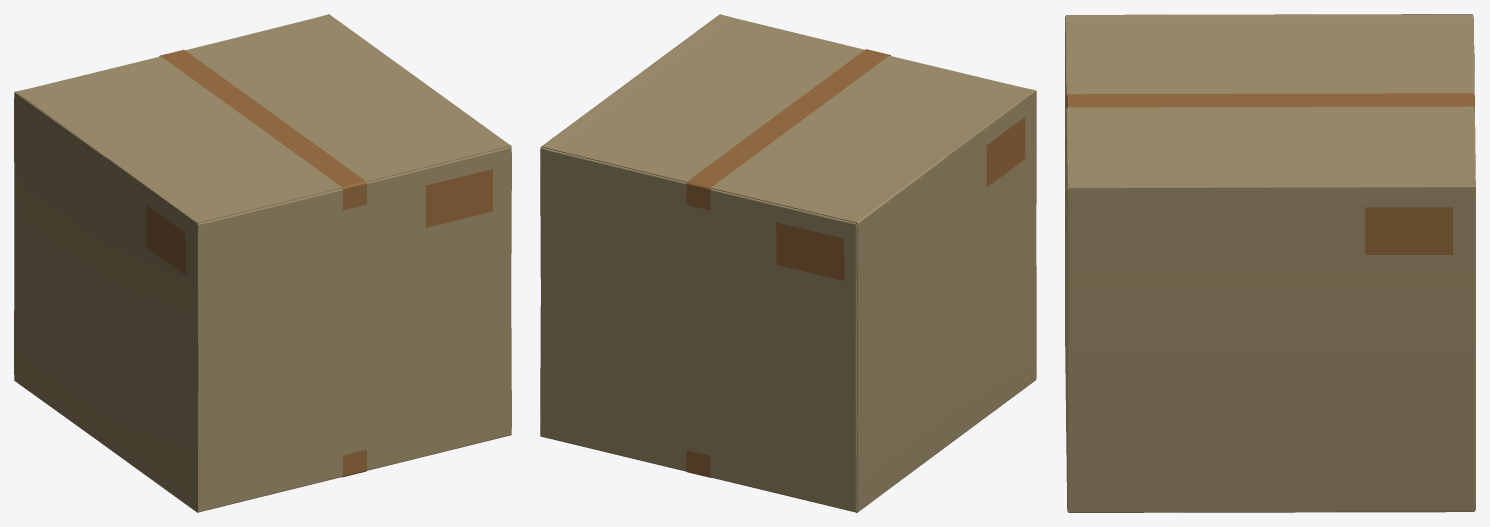
The picture shows the model from 3 angles, left to right: view 1: azimuth 30°, elevation 25°; view 2: azimuth 150°, elevation 25°; view 3: azimuth 270°, elevation 25°; orthographic projection. The views are drawn at different scales.
Parts seen in each view (by area): view 1: box, label; view 2: box, label; view 3: box, label.
Part boxes in pixels (bbox=[...]): box: bbox=[14, 14, 511, 512]; label: bbox=[146, 169, 492, 275]; box: bbox=[540, 14, 1036, 512]; label: bbox=[776, 117, 1025, 280]; box: bbox=[1065, 14, 1475, 512]; label: bbox=[1066, 54, 1474, 254].
Size of the model in its own units: 40.38 by 35.23 by 40.21.
